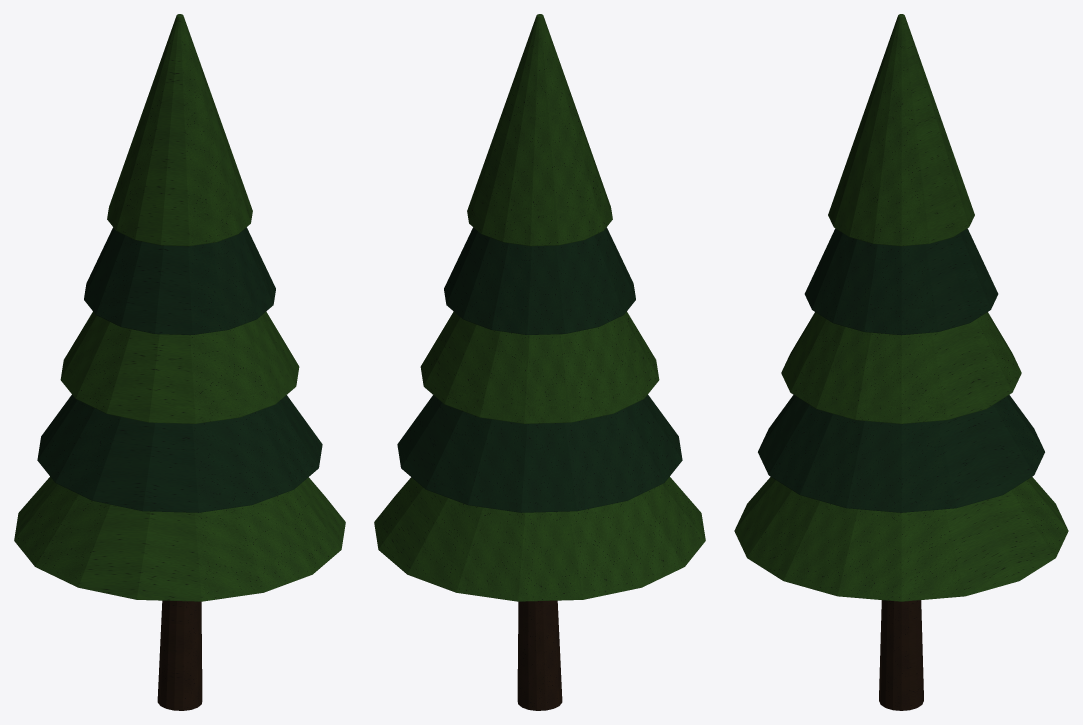
Rendered from PROP-C475ABDB3345_lod0.glb.
3 views of the same model, side by side, from view 1: azimuth 30°, elevation 25°; view 2: azimuth 150°, elevation 25°; view 3: azimuth 270°, elevation 25° (orthographic).
Parts seen in each view (by area): view 1: layered_conifer_crown.034, layered_conifer_crown.035, trunk.055; view 2: layered_conifer_crown.034, layered_conifer_crown.035, trunk.055; view 3: layered_conifer_crown.034, layered_conifer_crown.035, trunk.055.
Boxes of the visible parts, x1,y1,x2,y2 form: layered_conifer_crown.034: (14, 14, 345, 601); layered_conifer_crown.035: (37, 227, 322, 512); trunk.055: (157, 600, 202, 710); layered_conifer_crown.034: (374, 14, 705, 601); layered_conifer_crown.035: (397, 227, 682, 512); trunk.055: (517, 600, 562, 710); layered_conifer_crown.034: (734, 14, 1068, 601); layered_conifer_crown.035: (758, 228, 1044, 512); trunk.055: (879, 600, 923, 710).
Size of the model in its own units: 3.54 by 8.03 by 3.54.
3 materials, 3 textured.
